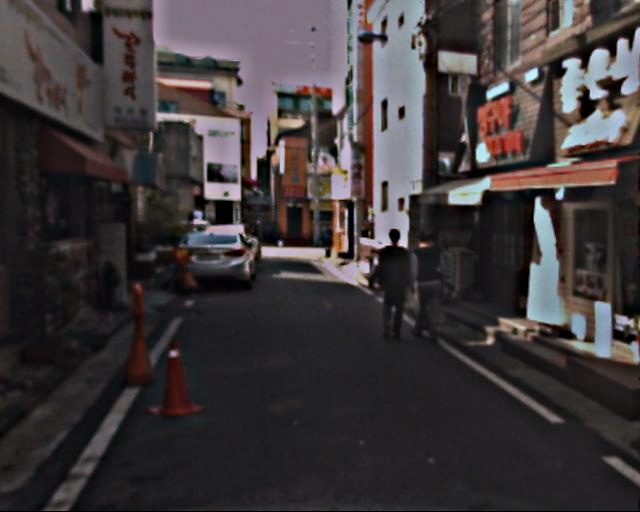person: (374, 230, 421, 344), (409, 230, 456, 344)
